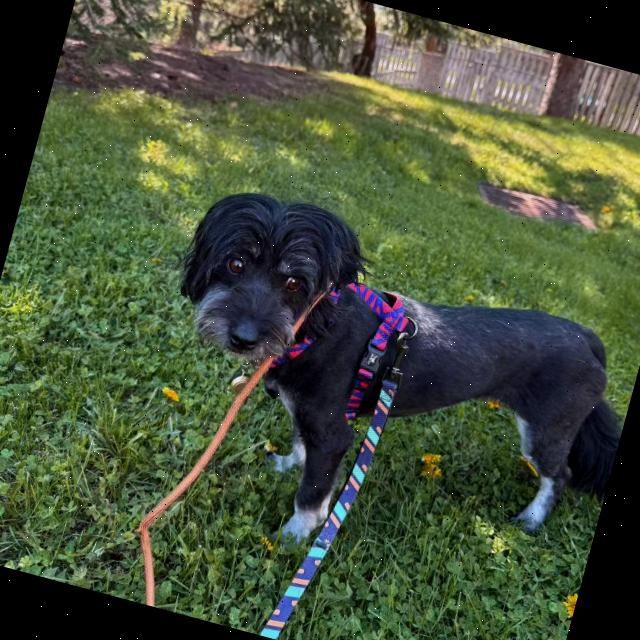Poodle_dog: (155, 165, 394, 403)
